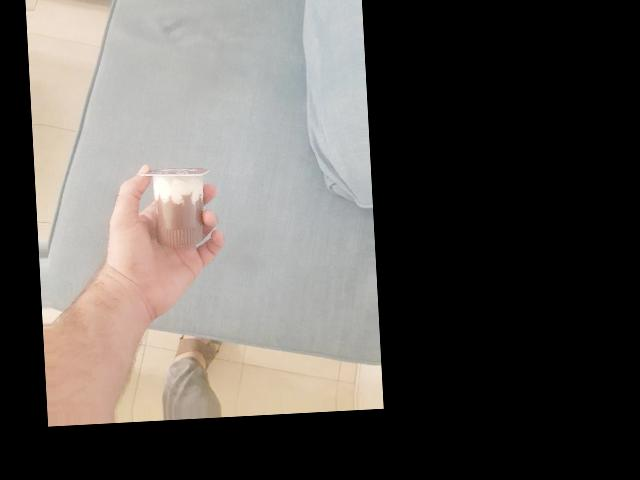milky: (224, 128, 316, 194)
